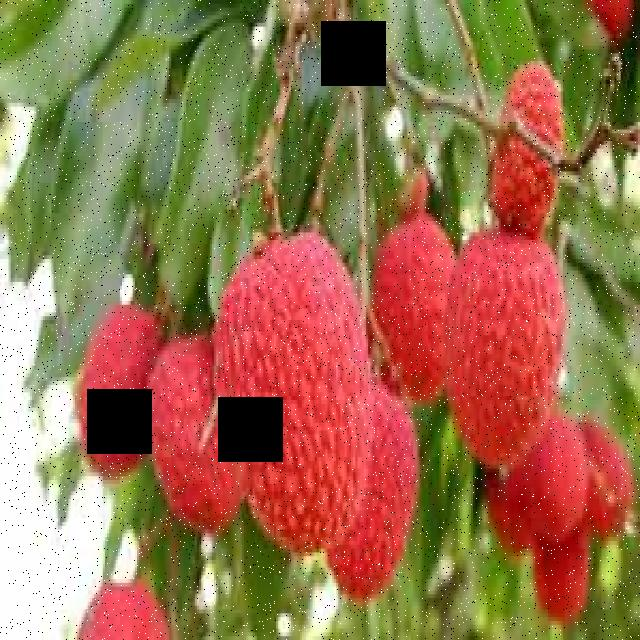lychee: (209, 235, 390, 555)
